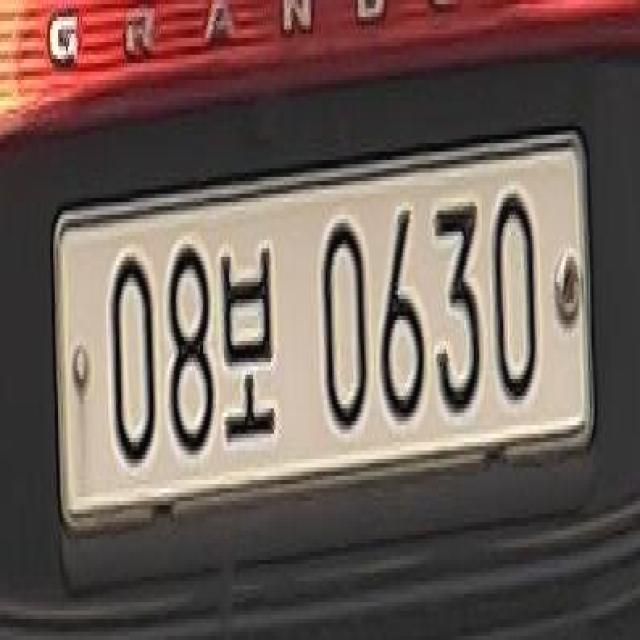illegal_plate: (55, 132, 600, 539)
